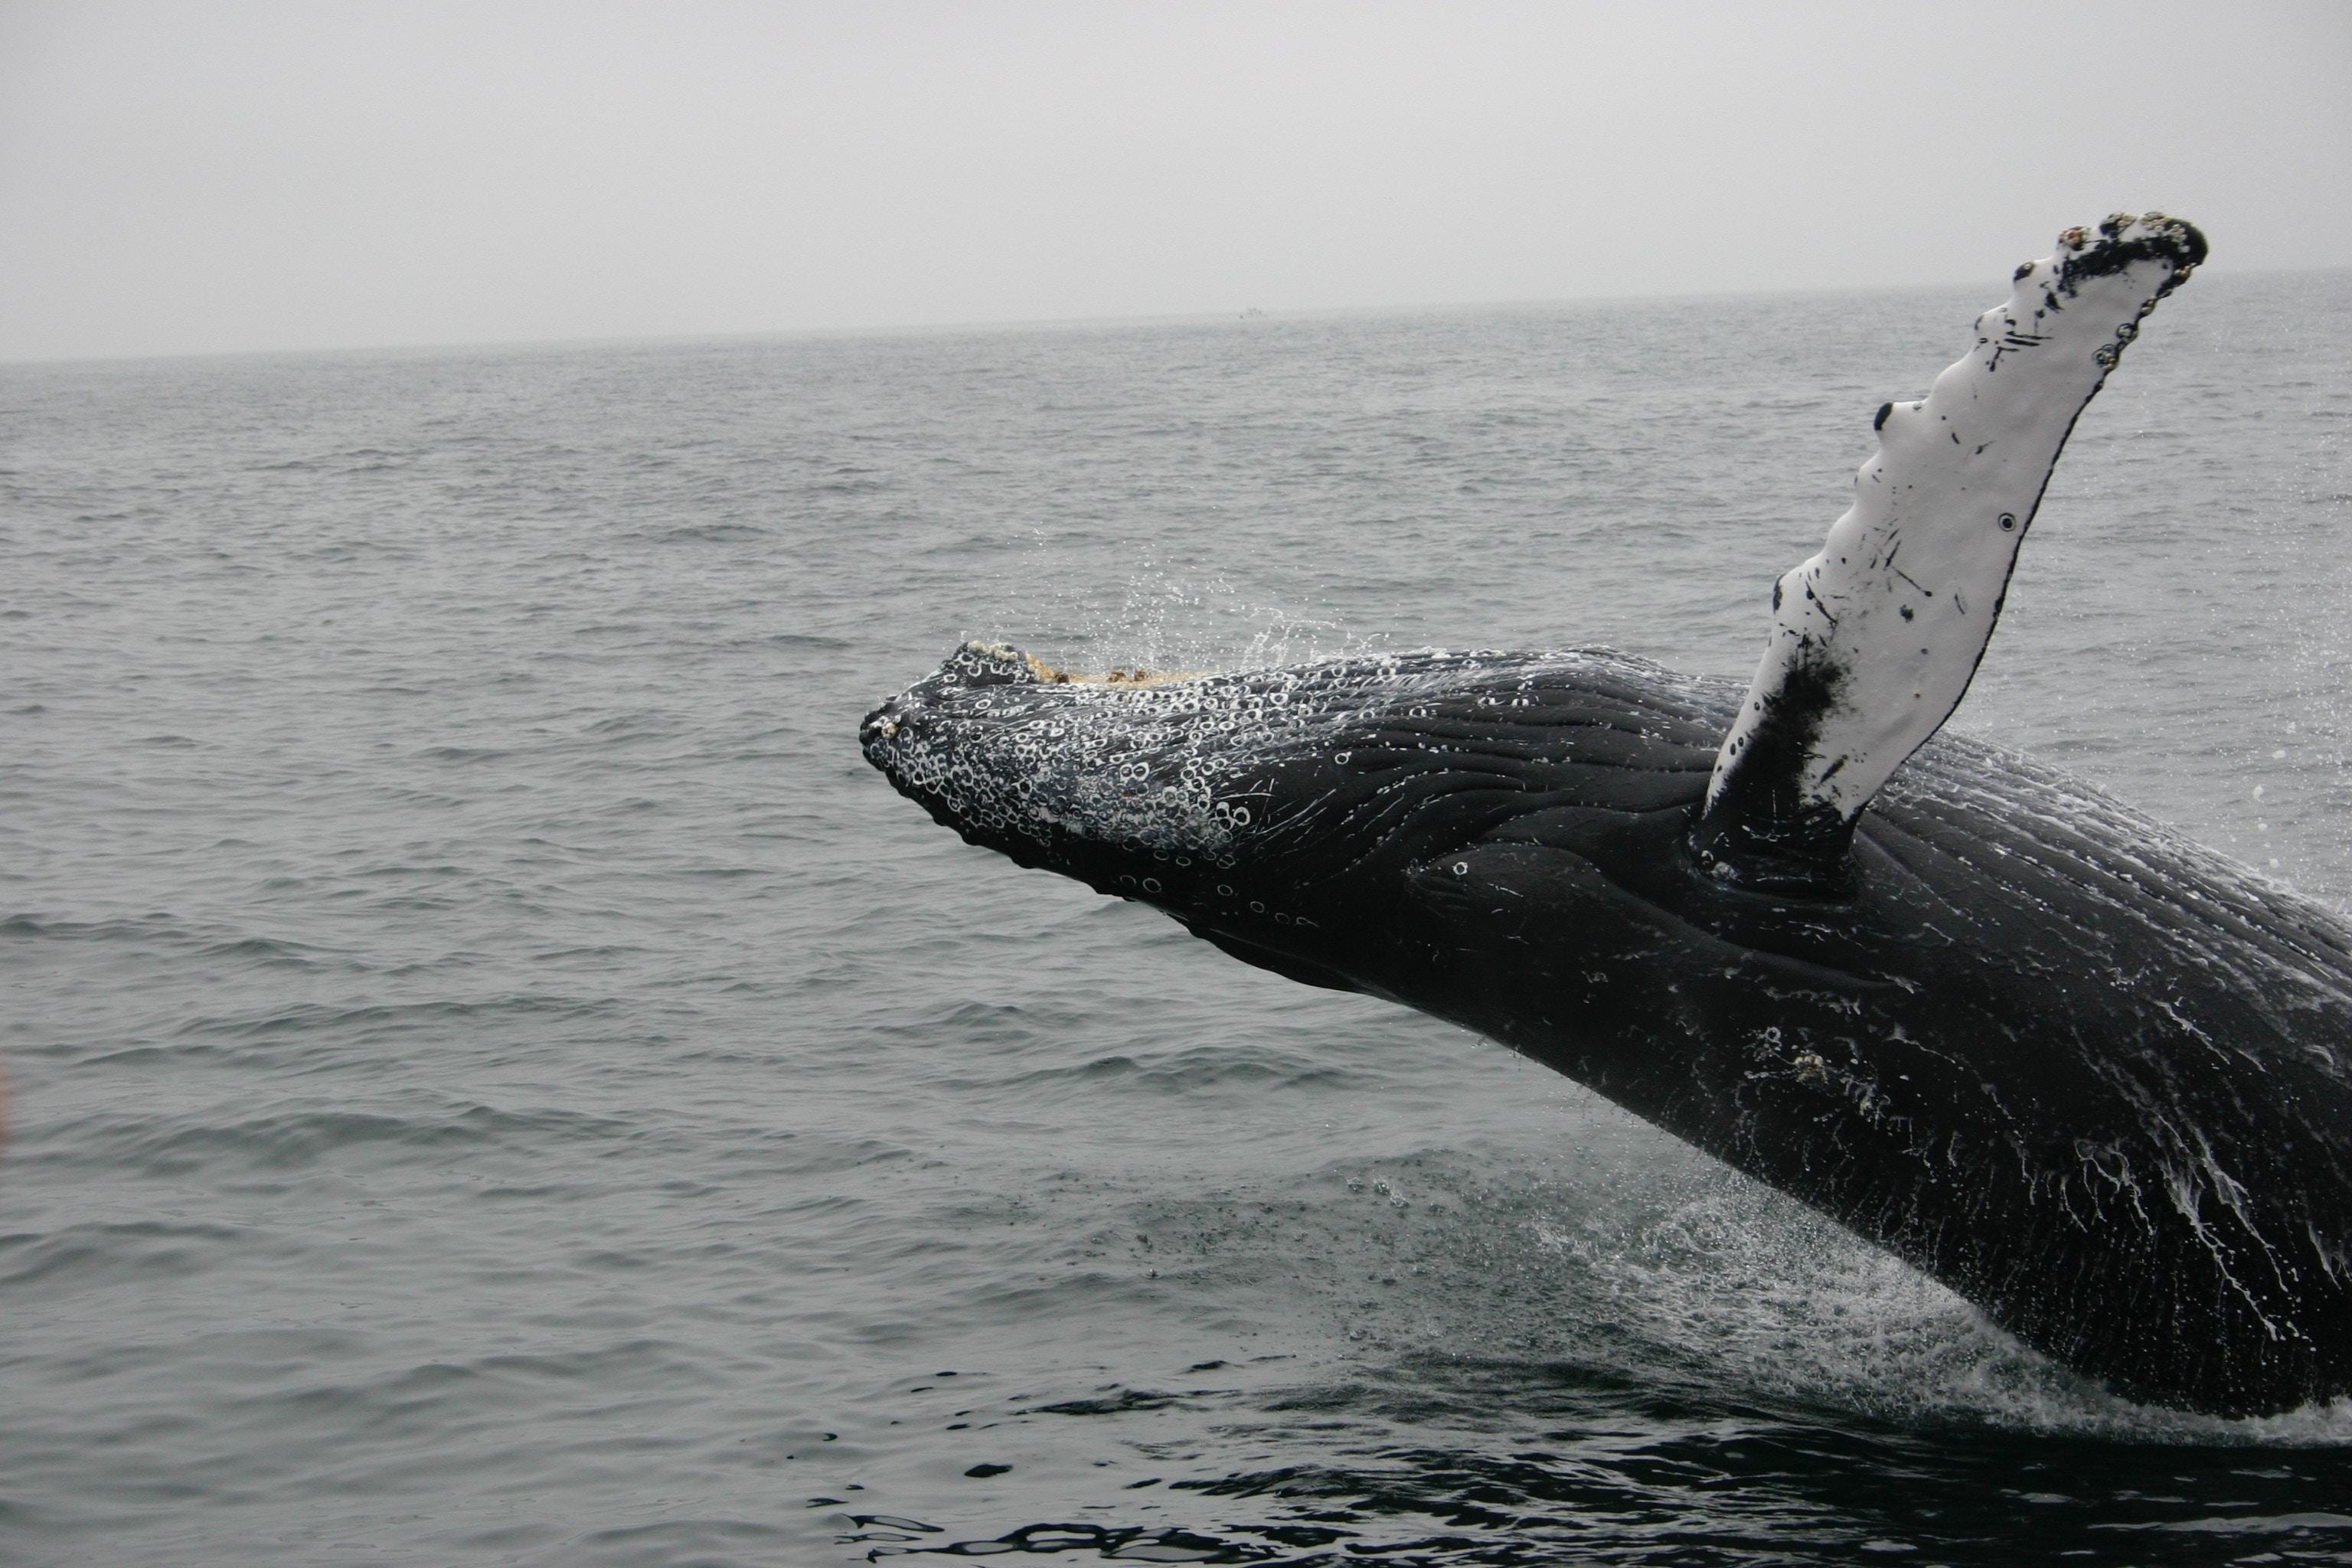fish: (793, 203, 2352, 1435)
